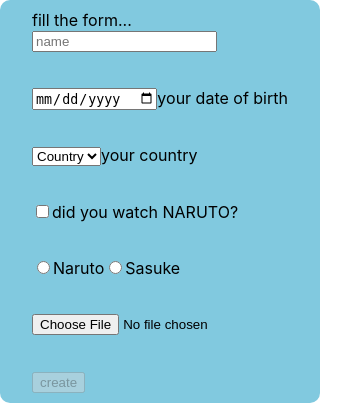
it: form › enable submit button
This screenshot has width=337, height=420.
Expected: the button is disabled, x1=32 y1=372 x2=85 y2=393
Type "testName" into the field with placeholder "name" at (124, 42), box x1=32 y1=31 x2=217 y2=52
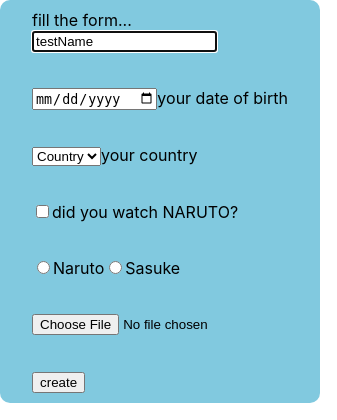
Expected: the button is enabled, x1=32 y1=372 x2=85 y2=393
